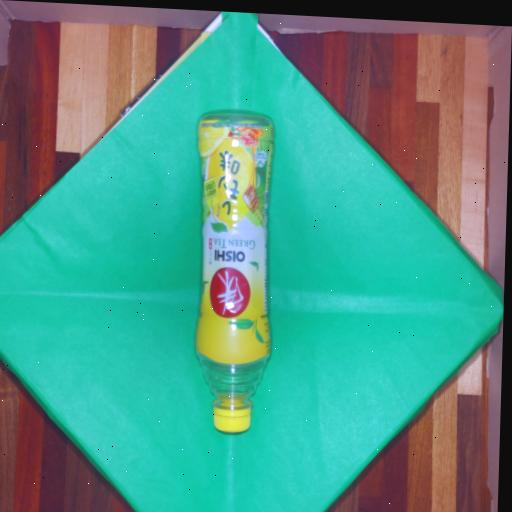bottle: (171, 85, 291, 438)
